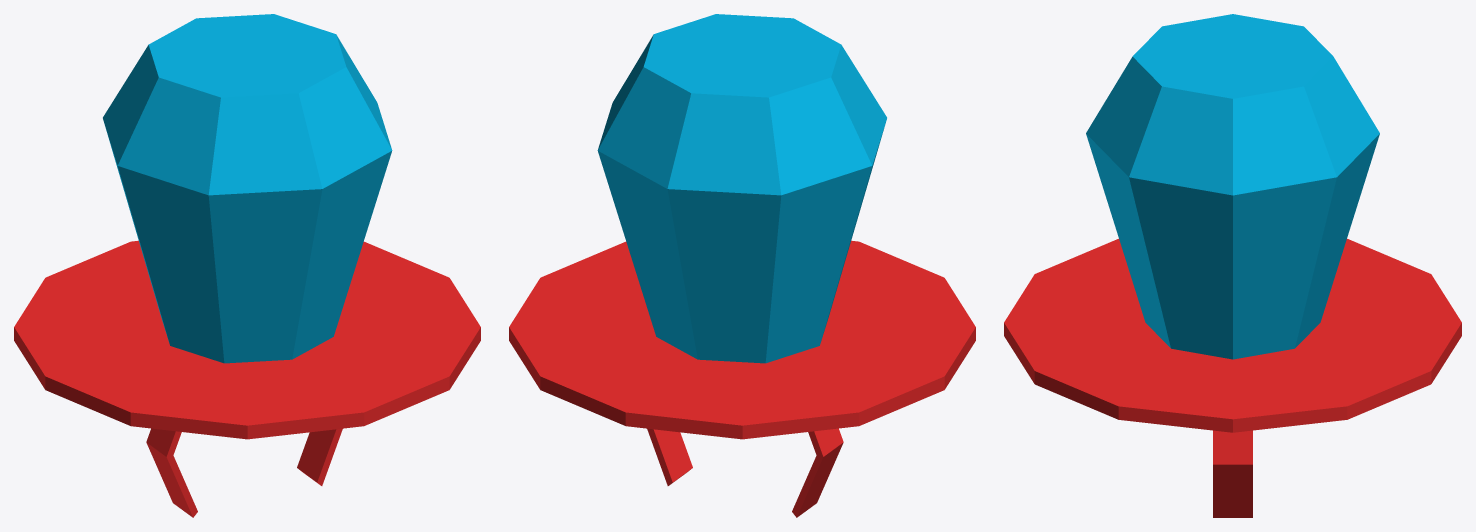
The model's file is ring-pop-by-poly-by-google-7ykBPo4vUvO.glb.
3 renders of one model, left to right at view 1: azimuth 30°, elevation 25°; view 2: azimuth 150°, elevation 25°; view 3: azimuth 270°, elevation 25°, orthographic.
Visible parts, largest first — view 1: Node; view 2: Node; view 3: Node.
Part boxes in pixels (x1=…): Node: x1=14, y1=14, x2=480, y2=517; Node: x1=509, y1=14, x2=975, y2=517; Node: x1=1004, y1=14, x2=1461, y2=517.
Size of the model in its own units: 3.11 by 3.23 by 3.11.
